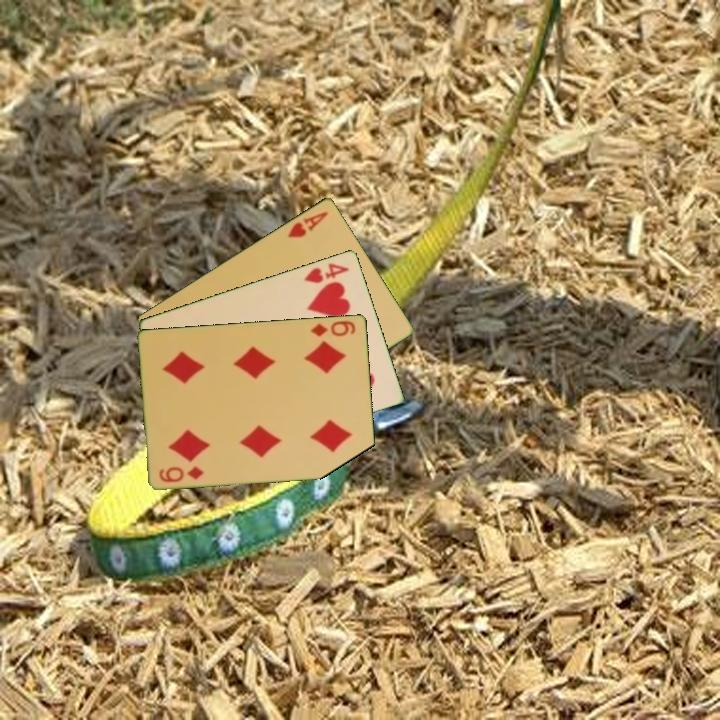4h: (300, 259, 352, 286)
6d: (155, 462, 207, 485), (308, 317, 359, 339)
Ah: (284, 207, 331, 240)
